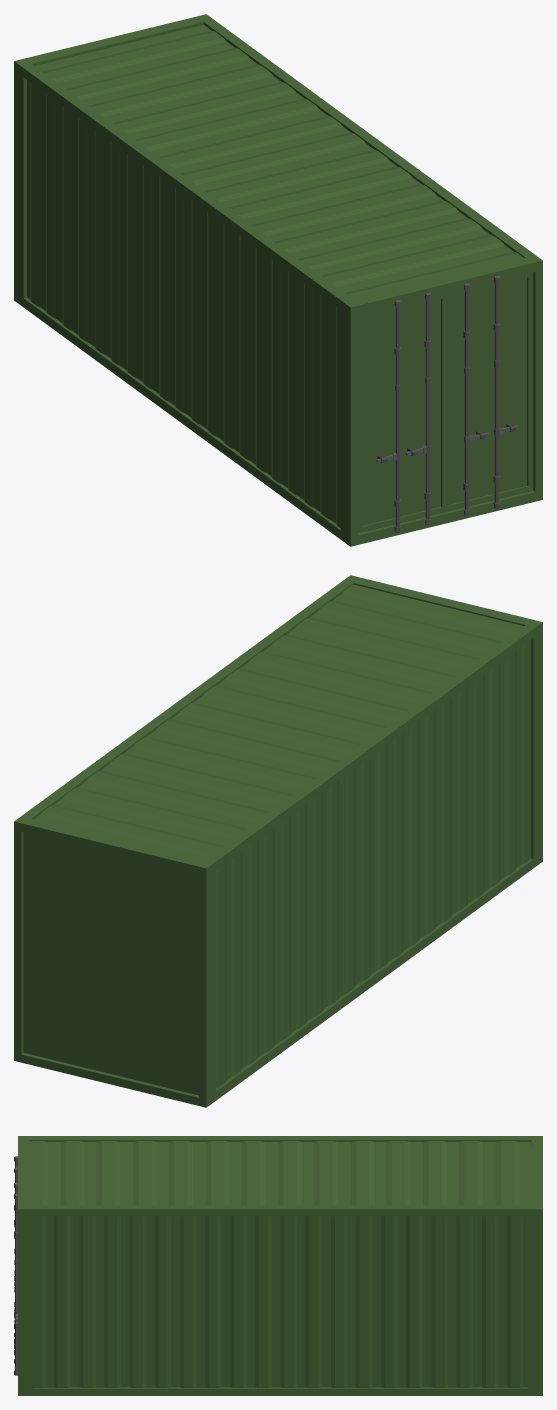
File: Container1-5.fbx
3 renders of one model, top to bottom at view 1: azimuth 30°, elevation 25°; view 2: azimuth 150°, elevation 25°; view 3: azimuth 270°, elevation 25°, orthographic. The views are drawn at different scales.
Visible parts, largest first — view 1: Container.004_LOD0; view 2: Container.004_LOD0; view 3: Container.004_LOD0.
Part boxes in pixels (left/top/right/bottom): Container.004_LOD0: left=14, top=14, right=542, bottom=546; Container.004_LOD0: left=14, top=575, right=542, bottom=1107; Container.004_LOD0: left=14, top=1136, right=542, bottom=1395.
Size of what is drawn, in the model's own units: 432 by 513 by 1318.
1 material, 1 textured.
